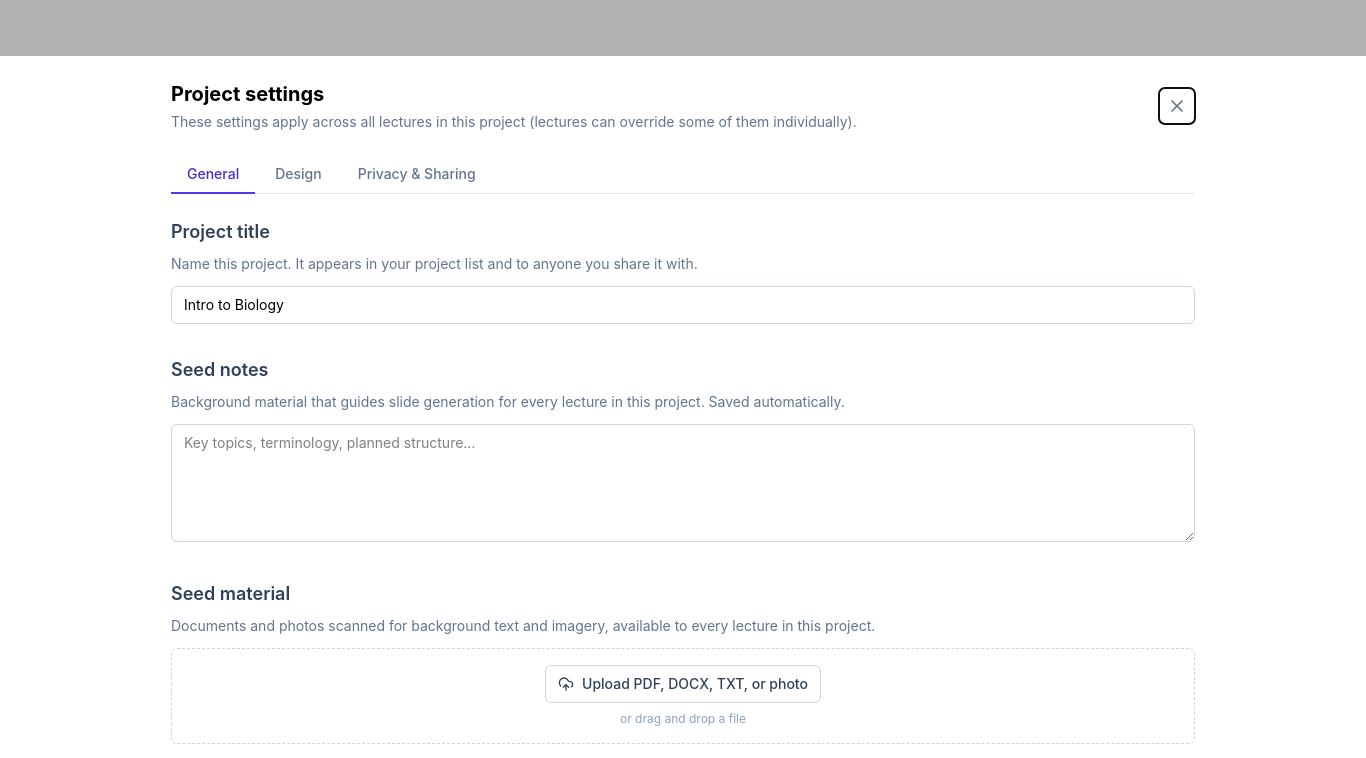
Scenario: ProjectSettingsModal — Design tab browses like the Design templates page (TMPL-28) › offers Latest, Top, Mine and search, like the Design templates page
The image size is (1366, 758).
Click the tab "Design": (298, 175) [259,156,338,194]
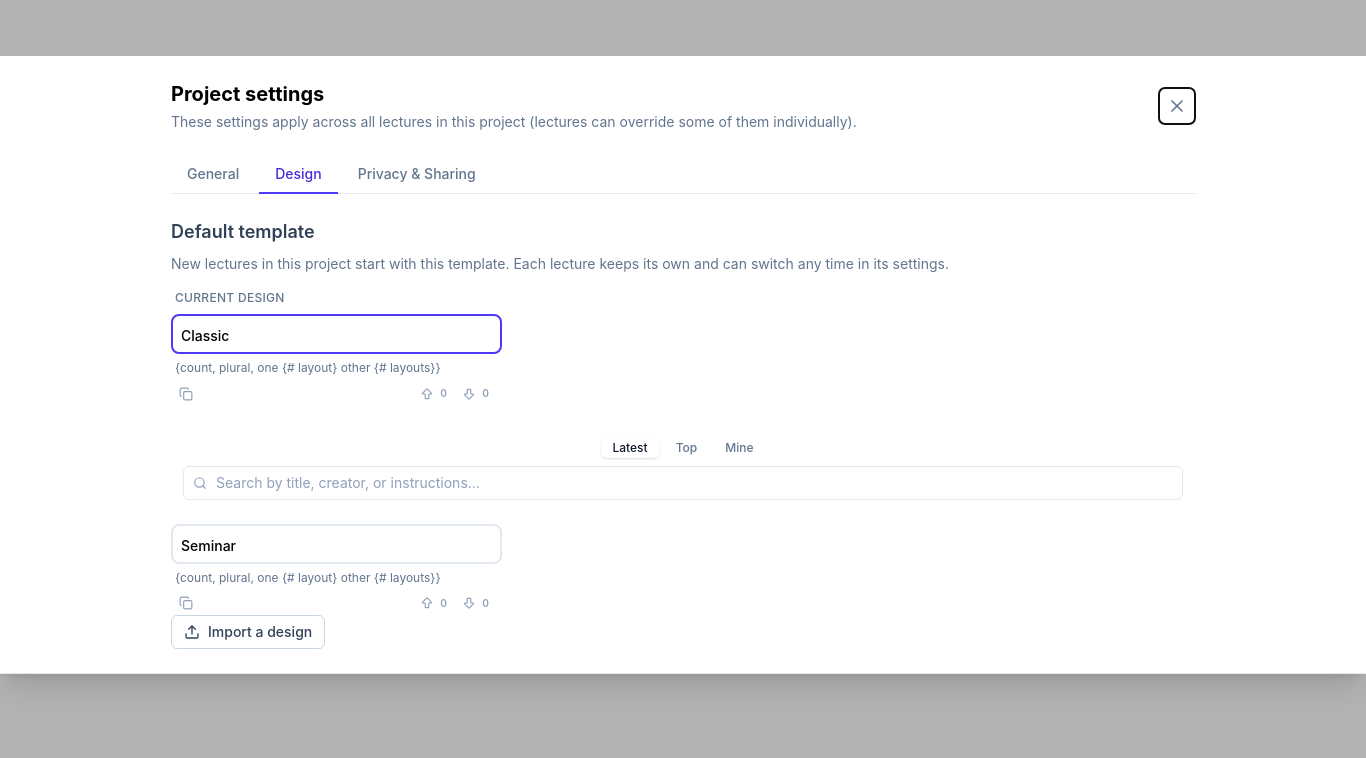
expect the element named "Slide template" is shown: met, box [171,290,1195,615]
expect the button "Latest" is shown: met, box [600,438,660,458]
expect the button "Top" is shown: met, box [664,438,709,458]
